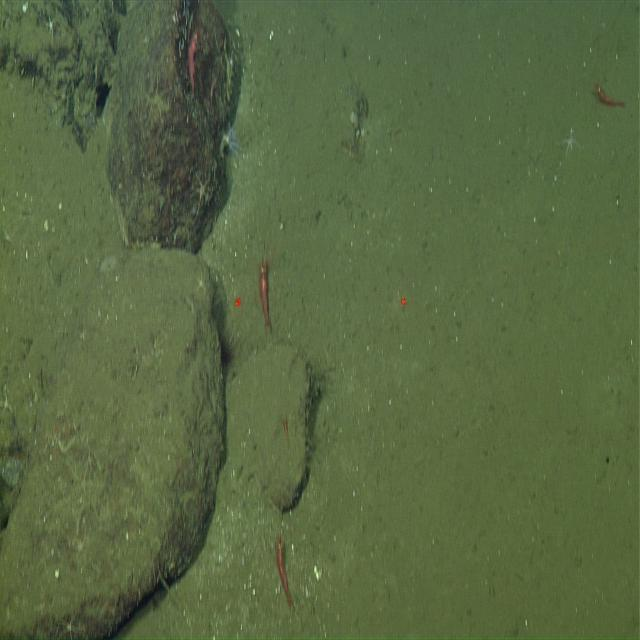Brittle Star: (559, 123, 583, 160)
Not Brittle Star: (255, 245, 276, 337), (592, 75, 629, 115), (184, 23, 203, 97), (217, 120, 244, 162)
